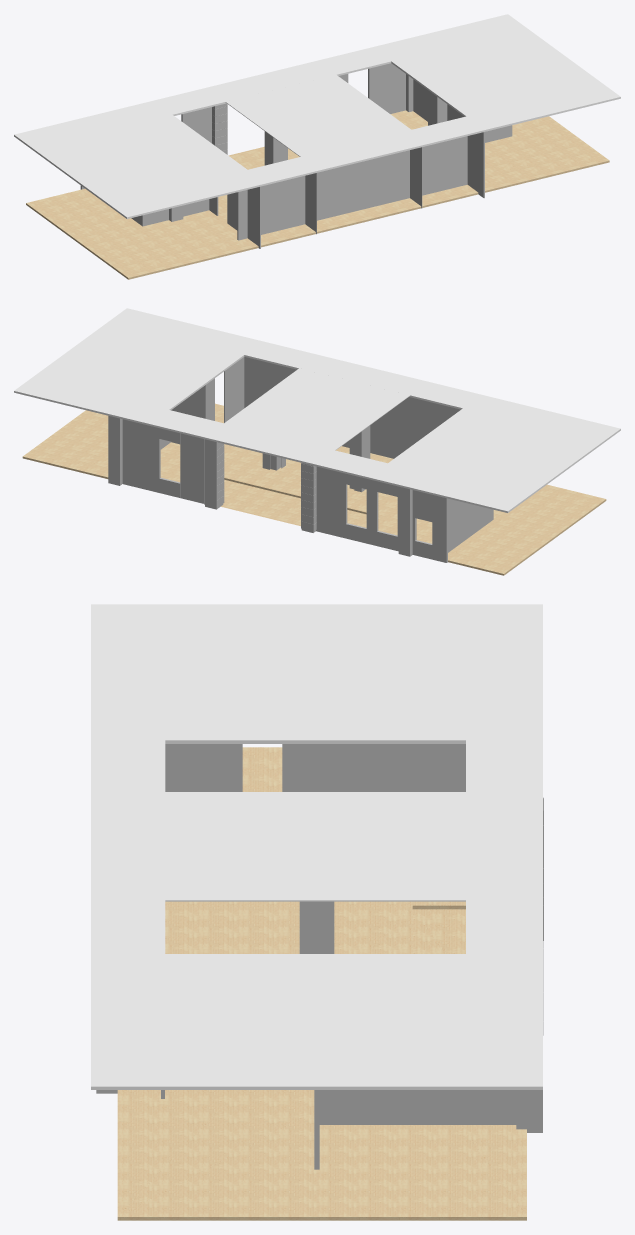
File: Structure.fbx
The picture shows the model from 3 angles, top to bottom: view 1: azimuth 30°, elevation 25°; view 2: azimuth 150°, elevation 25°; view 3: azimuth 270°, elevation 25°; orthographic projection. The views are drawn at different scales.
Visible parts, largest first — view 1: MeshBaker__1__mesh_mesh; view 2: MeshBaker__1__mesh_mesh; view 3: MeshBaker__1__mesh_mesh.
Boxes of the visible parts, x1,y1,x2,y2 form: MeshBaker__1__mesh_mesh: (14, 14, 620, 279); MeshBaker__1__mesh_mesh: (14, 308, 620, 575); MeshBaker__1__mesh_mesh: (91, 604, 543, 1220).
Size of the model in its own units: 4899 by 657 by 1946.
